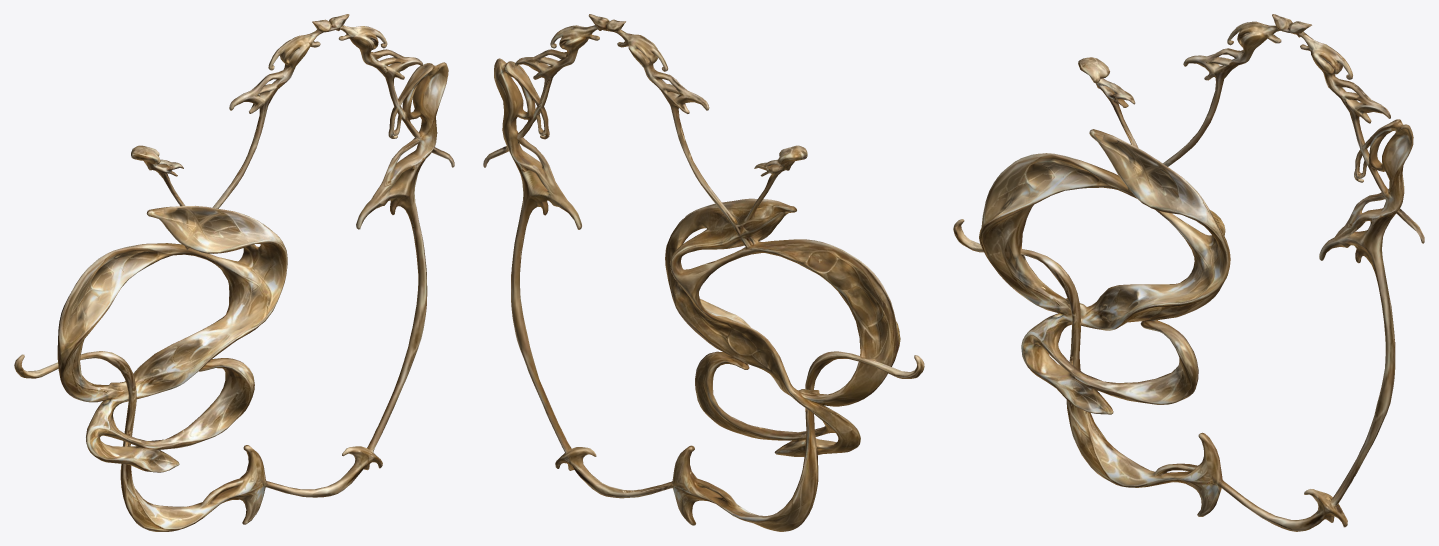
File: endure-intro.glb
3 renders of one model, left to right at view 1: azimuth 30°, elevation 25°; view 2: azimuth 150°, elevation 25°; view 3: azimuth 330°, elevation 25°, orthographic. The views are drawn at different scales.
Parts seen in each view (by area): view 1: tripo_node_1c43dbe0-77ce-4661-a486-8c18fabb035f; view 2: tripo_node_1c43dbe0-77ce-4661-a486-8c18fabb035f; view 3: tripo_node_1c43dbe0-77ce-4661-a486-8c18fabb035f.
Boxes of the visible parts, x1,y1,x2,y2 form: tripo_node_1c43dbe0-77ce-4661-a486-8c18fabb035f: (14, 14, 454, 531); tripo_node_1c43dbe0-77ce-4661-a486-8c18fabb035f: (483, 14, 924, 531); tripo_node_1c43dbe0-77ce-4661-a486-8c18fabb035f: (953, 14, 1424, 531).
Size of the model in its own units: 0.9263 by 0.9805 by 0.1014.
1 material, 1 textured.
